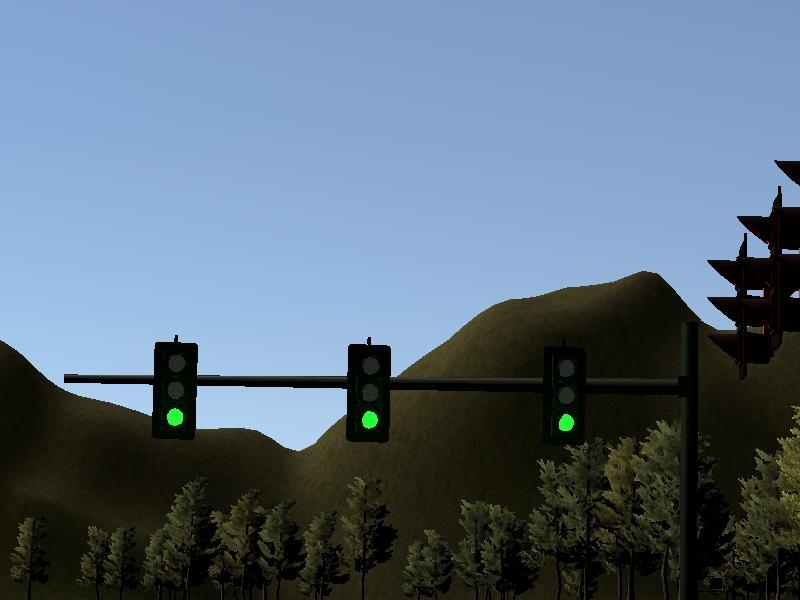GREEN: (145, 335, 200, 442), (342, 338, 392, 448), (539, 347, 592, 446)
